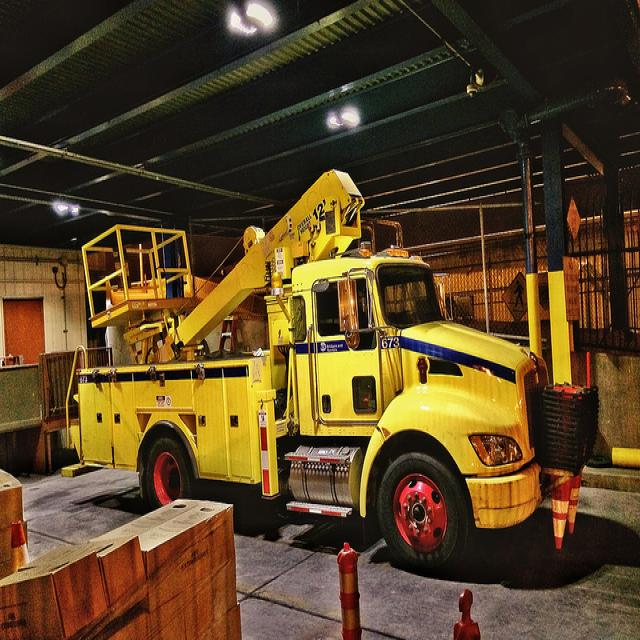Vehicle: (60, 165, 598, 579)
